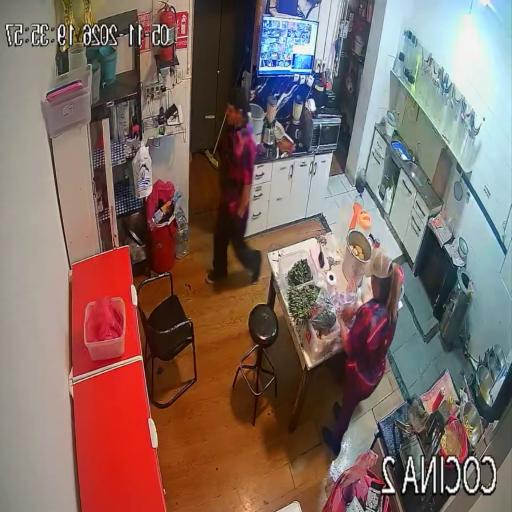Envase Ketchup: (433, 387, 446, 410)
Envase Llajua: (447, 395, 454, 404)
Jarra2: (355, 211, 372, 237)
Microondas: (301, 104, 341, 152)
Persona1: (207, 89, 260, 282)
Persona2: (319, 253, 403, 458)
Tapa de olla: (459, 237, 468, 255)
Taper: (466, 280, 475, 300)
Taper2: (278, 247, 318, 295)
Taper3: (297, 284, 341, 364)
olla1: (343, 229, 371, 289)
